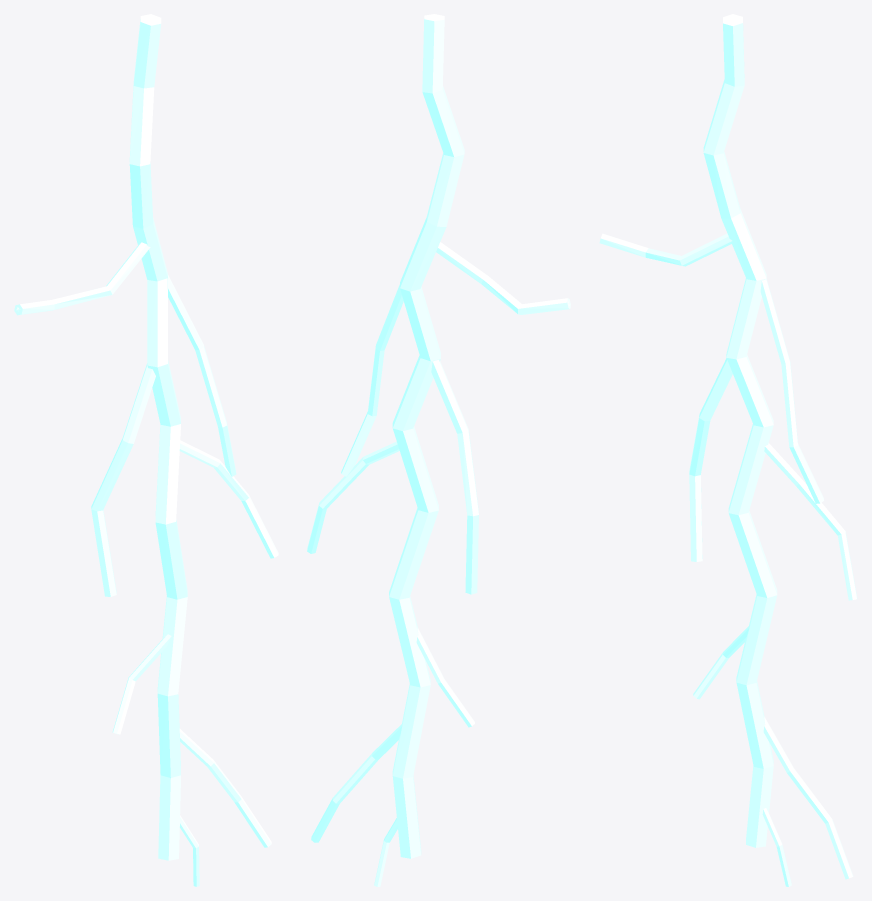
File: lightning-bolt.gltf
The picture shows the model from 3 angles, left to right: view 1: azimuth 30°, elevation 25°; view 2: azimuth 150°, elevation 25°; view 3: azimuth 330°, elevation 25°; orthographic projection. The views are drawn at different scales.
Parts seen in each view (by area): view 1: LightningShell; view 2: LightningShell; view 3: LightningShell.
Boxes of the visible parts, x1=… form: LightningShell: x1=14, y1=14, x2=278, y2=886; LightningShell: x1=307, y1=14, x2=570, y2=886; LightningShell: x1=599, y1=14, x2=857, y2=886.
Bounding box in the file's own units: 1.02 × 3.28 × 0.1592.
